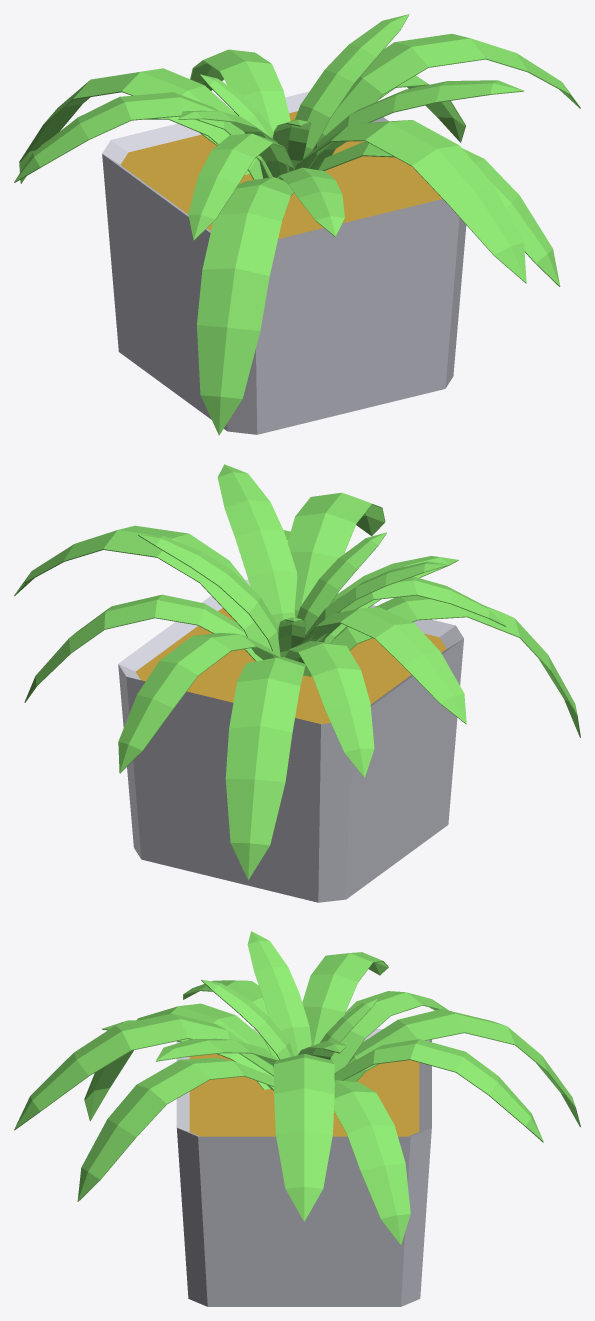
The model's file is PottedPlant_2.fbx.
The picture shows the model from 3 angles, top to bottom: view 1: azimuth 30°, elevation 25°; view 2: azimuth 150°, elevation 25°; view 3: azimuth 270°, elevation 25°; orthographic projection. The views are drawn at different scales.
Parts seen in each view (by area): view 1: Cube, Cube.001; view 2: Cube.001, Cube; view 3: Cube.001, Cube.
Part boxes in pixels (x1,y1,x2,y2): Cube: (102,91,466,434); Cube.001: (14,14,580,435); Cube.001: (14,464,580,880); Cube: (118,579,463,902); Cube.001: (14,931,580,1244); Cube: (176,1029,431,1306).
Bounding box in the file's own units: 557 × 306 × 587.
